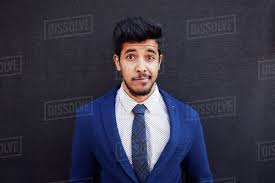middle_eastern_male: (120, 27, 161, 96)
